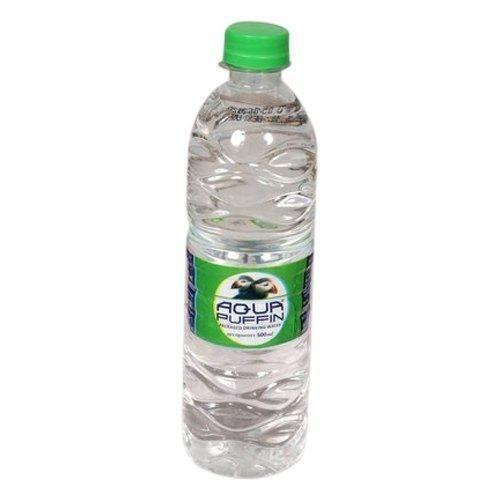bottle-plastic: (179, 18, 320, 483)
